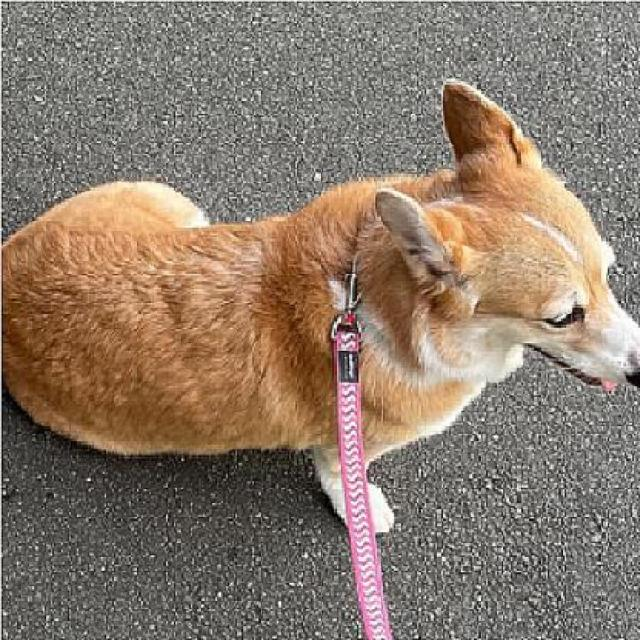Dog: (4, 75, 638, 543)
